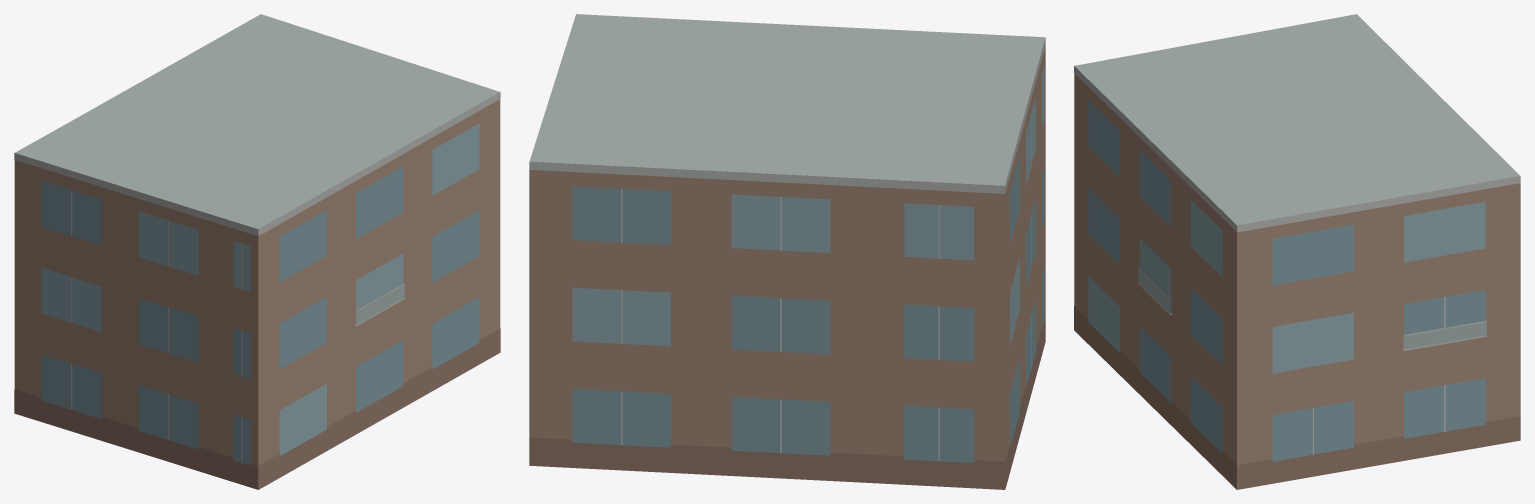
Rendered from survey-upis-32720470.glb.
3 renders of one model, left to right at view 1: azimuth 30°, elevation 25°; view 2: azimuth 150°, elevation 25°; view 3: azimuth 270°, elevation 25°, orthographic. The views are drawn at different scales.
Parts seen in each view (by area): view 1: survey-upis-32720470.tmp; view 2: survey-upis-32720470.tmp; view 3: survey-upis-32720470.tmp.
Part boxes in pixels (x1,y1,x2,y2): survey-upis-32720470.tmp: (14,14,500,489); survey-upis-32720470.tmp: (529,14,1045,489); survey-upis-32720470.tmp: (1074,14,1520,489).
Size of the model in its own units: 15.7 by 9.15 by 14.01.
